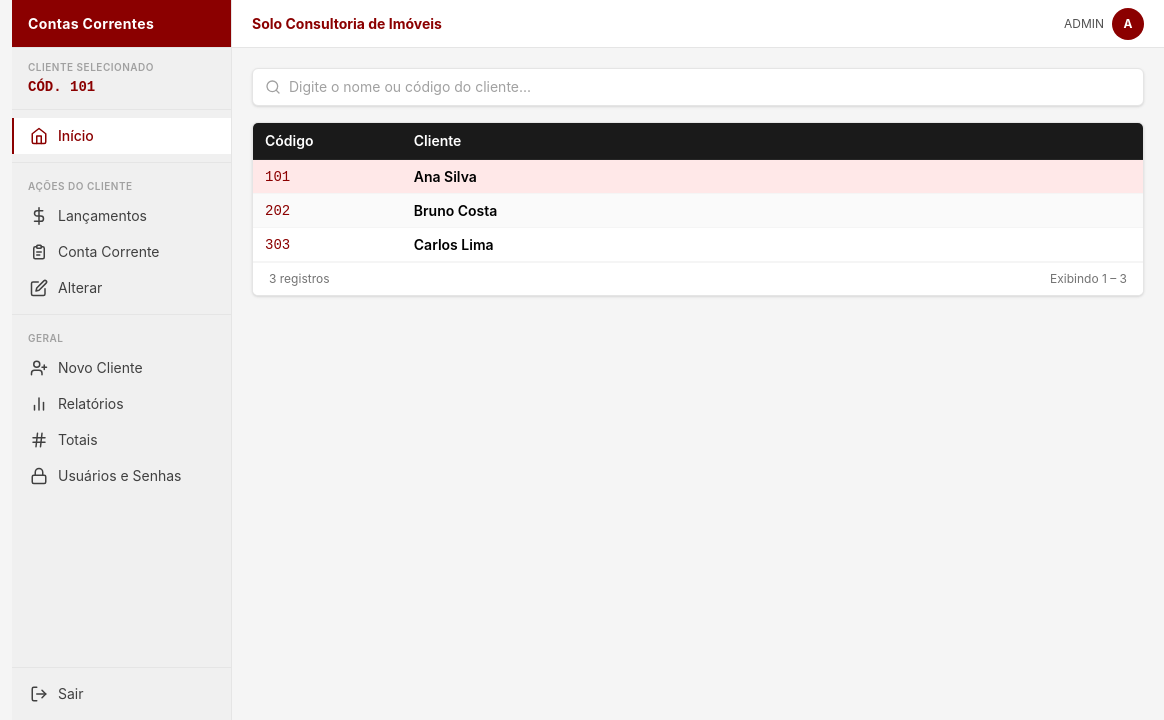
Test: Principal › pesquisa posiciona no match por prefixo do nome (RN12/RN13)
Type "Bru" into the field with placeholder "Digite o nome ou código do cliente..." at x=710, y=87, box [289, 77, 1131, 97]
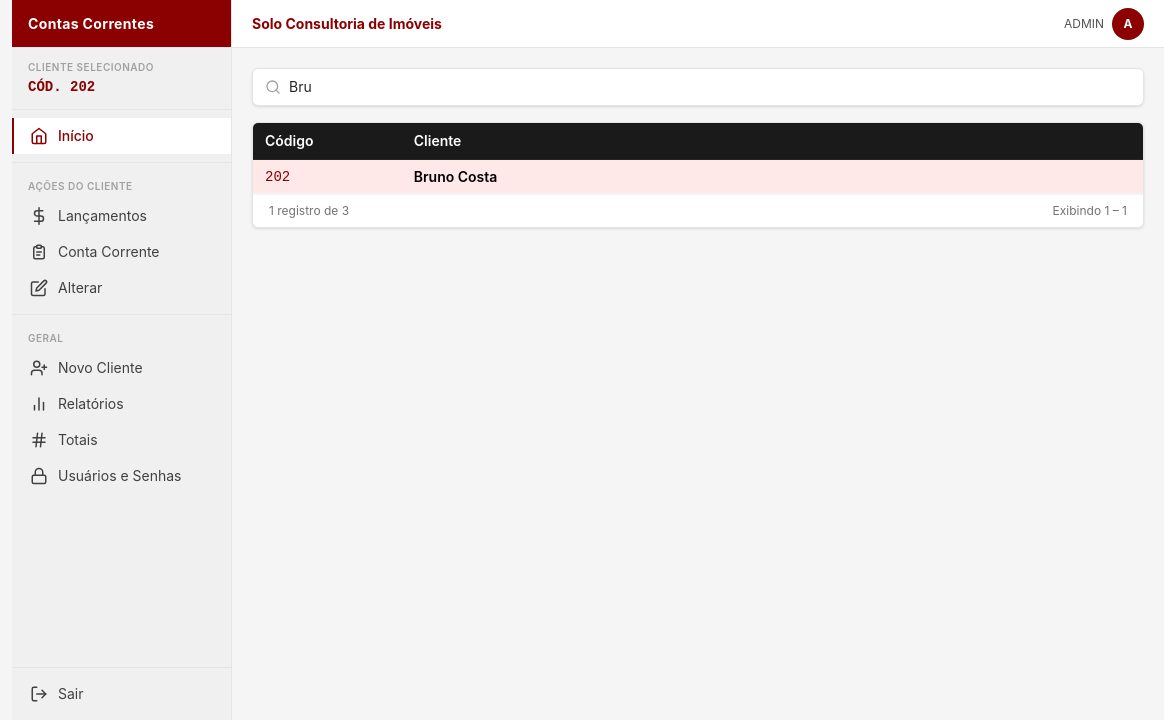
Check: the text "CÓD. 202" is shown, box [28, 79, 95, 95]
